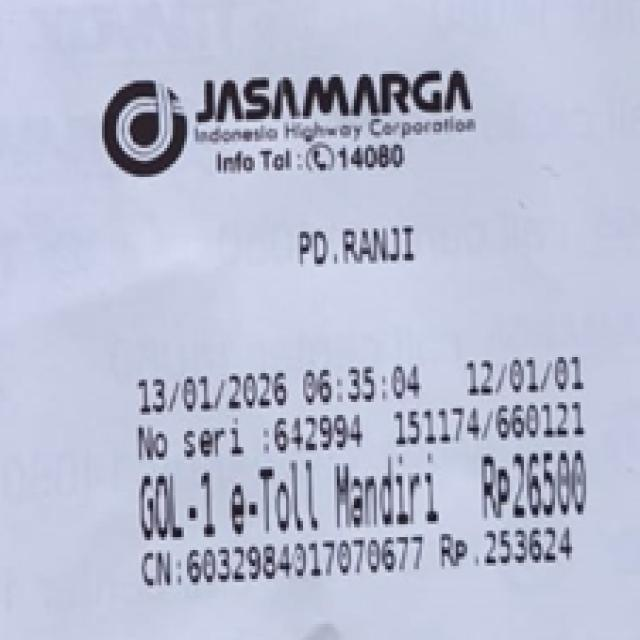date: (116, 368, 442, 407)
store: (190, 66, 484, 144)
total: (470, 449, 602, 524)
